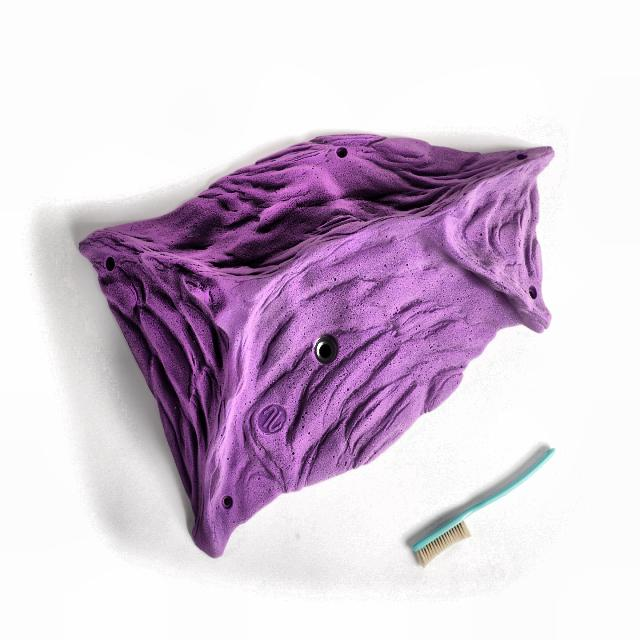Hold: (83, 124, 556, 543)
